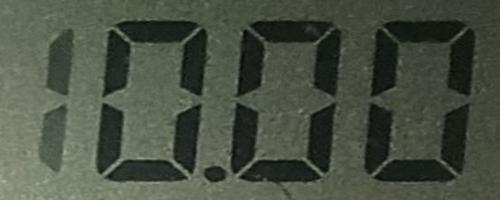.: (197, 166, 230, 188)
